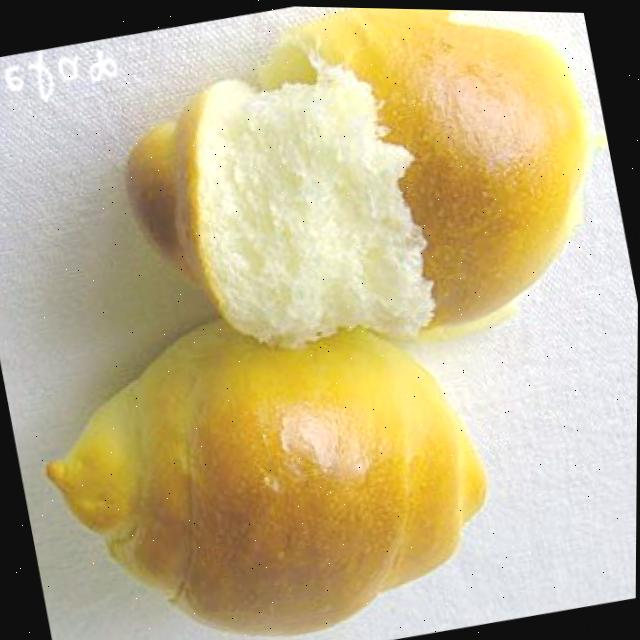面包点心: (9, 255, 530, 640)
